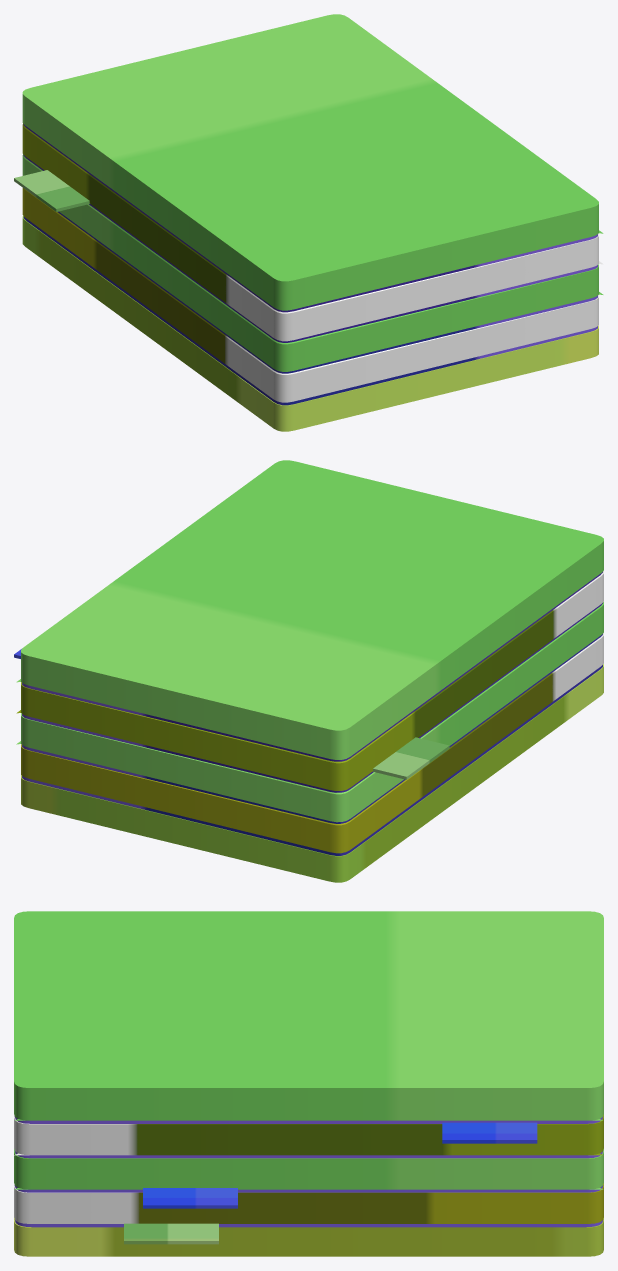
The model's file is Document_Dummy.fbx.
The picture shows the model from 3 angles, top to bottom: view 1: azimuth 30°, elevation 25°; view 2: azimuth 150°, elevation 25°; view 3: azimuth 270°, elevation 25°; orthographic projection. The views are drawn at different scales.
Visible parts, largest first — view 1: Document_Dummy; view 2: Document_Dummy; view 3: Document_Dummy.
Boxes of the visible parts, bbox=[...] form: Document_Dummy: bbox=[14, 14, 603, 431]; Document_Dummy: bbox=[14, 460, 603, 882]; Document_Dummy: bbox=[14, 911, 603, 1256].
Size of the model in its own units: 36.18 by 13.39 by 42.45.
